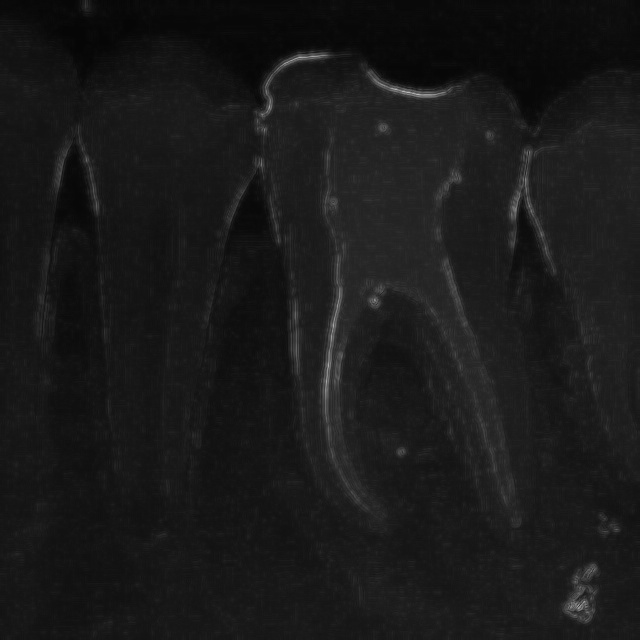Class 0- No endodontic treatment: (248, 45, 567, 569)
